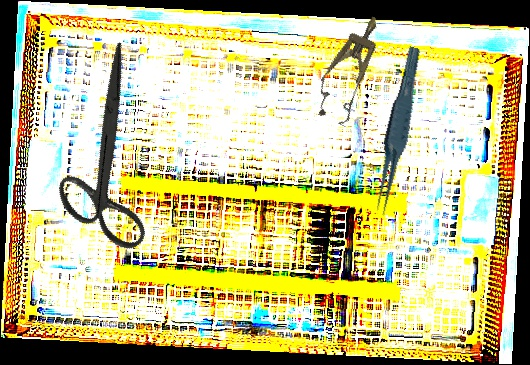Iris Scissors: (6, 41, 211, 269)
Speculum: (307, 7, 395, 129)
Tissue Forceps: (361, 45, 433, 217)
